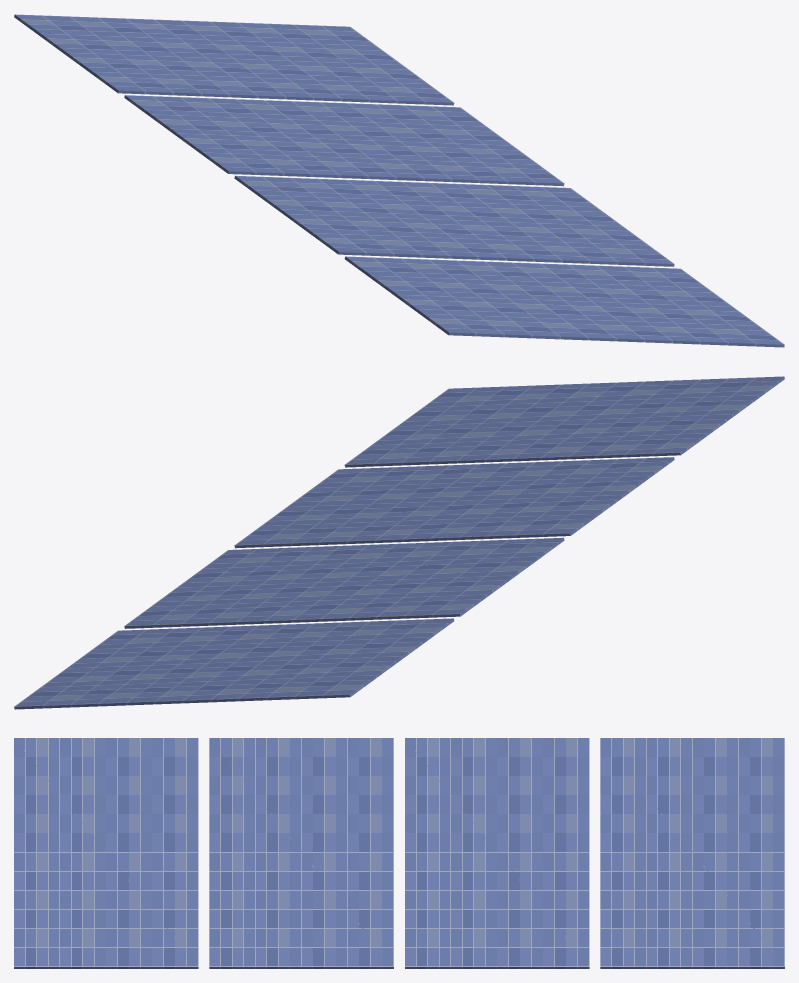
The model's file is kd_stage_135c43_4_71_bounded.glb.
3 views of the same model, one above another, from view 1: azimuth 30°, elevation 25°; view 2: azimuth 150°, elevation 25°; view 3: azimuth 270°, elevation 25° (orthographic). The views are drawn at different scales.
Parts seen in each view (by area): view 1: kd_stage_135c43_4_71_bounded; view 2: kd_stage_135c43_4_71_bounded; view 3: kd_stage_135c43_4_71_bounded.
Part boxes in pixels (x1,y1,x2,y2): kd_stage_135c43_4_71_bounded: (14,14,784,347); kd_stage_135c43_4_71_bounded: (14,376,784,709); kd_stage_135c43_4_71_bounded: (14,738,784,968).
Size of the model in its own units: 1.32 by 0.3632 by 2.96.
Materials: 1 (1 with a texture image).
